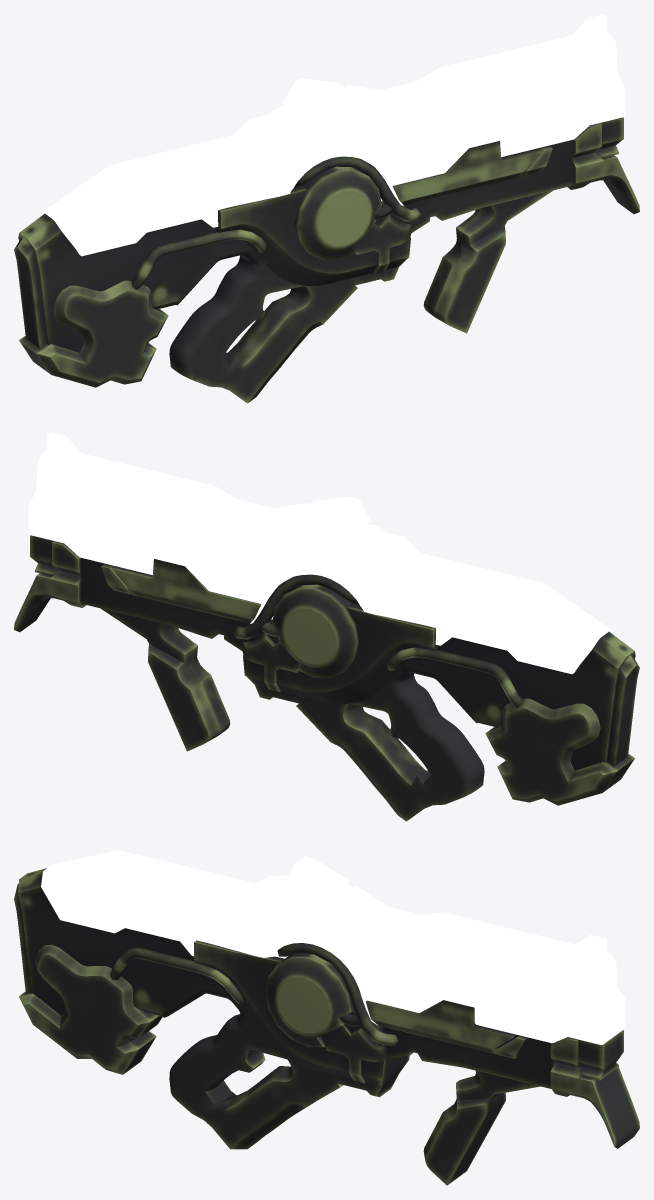
File: Mid_Rail.glb
3 renders of one model, top to bottom at view 1: azimuth 30°, elevation 25°; view 2: azimuth 150°, elevation 25°; view 3: azimuth 330°, elevation 25°, orthographic.
Visible parts, largest first — view 1: Cube.023_Lower_0, Cube.023_Upper_0; view 2: Cube.023_Lower_0, Cube.023_Upper_0; view 3: Cube.023_Lower_0, Cube.023_Upper_0.
Part boxes in pixels (<box>): Cube.023_Lower_0: <box>14,117,639,403</box>; Cube.023_Upper_0: <box>41,14,625,256</box>; Cube.023_Lower_0: <box>14,535,639,821</box>; Cube.023_Upper_0: <box>28,432,612,674</box>; Cube.023_Lower_0: <box>14,868,639,1185</box>; Cube.023_Upper_0: <box>41,850,625,1044</box>.
Bounding box in the file's own units: 4.92 × 2.32 × 0.5744.
2 materials, 2 textured.
